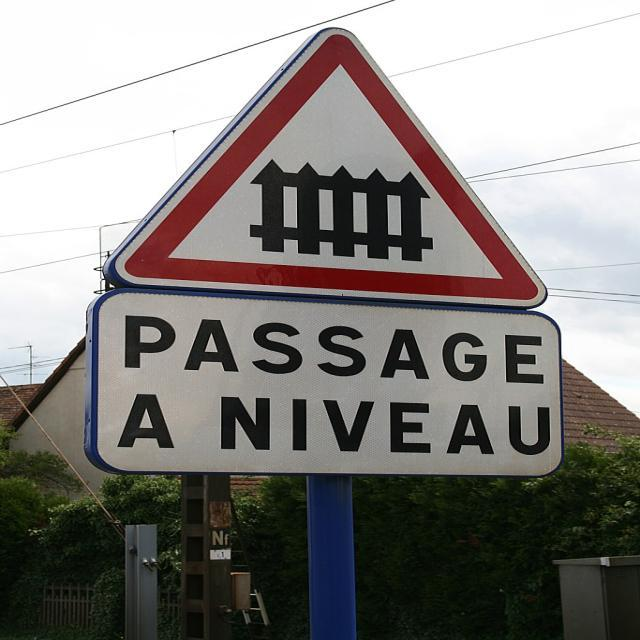guarded level crossing: (103, 21, 565, 310)
